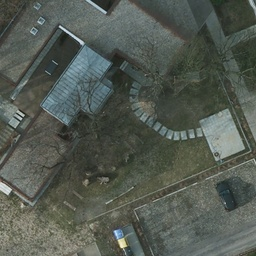car: (214, 182, 238, 212)
